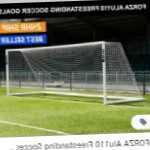goals: (5, 40, 146, 106)
